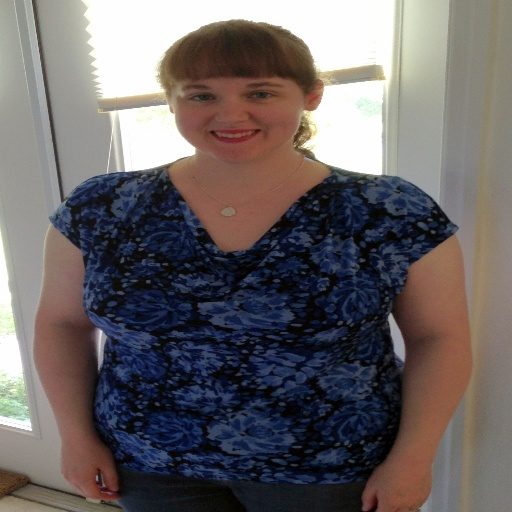hand: (360, 437, 448, 512), (55, 441, 122, 502)
